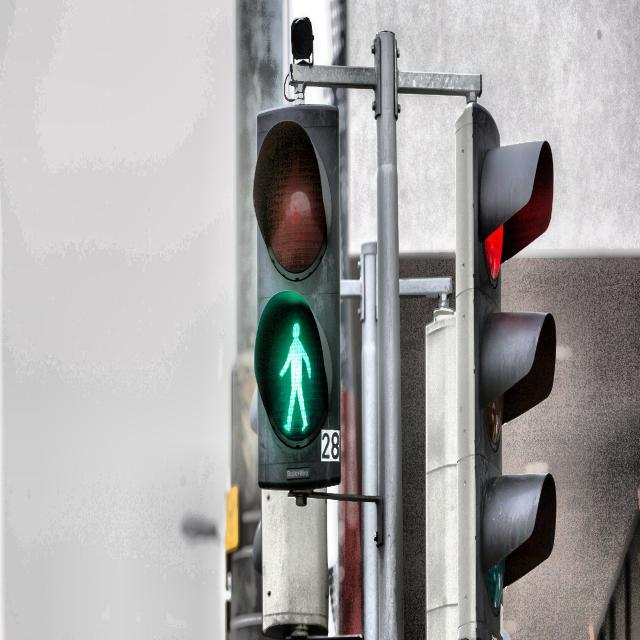green_light: (278, 318, 314, 438)
